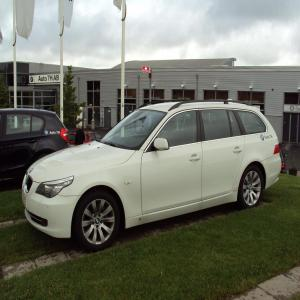Vehicle-registration-plate: (23, 191, 29, 209)
